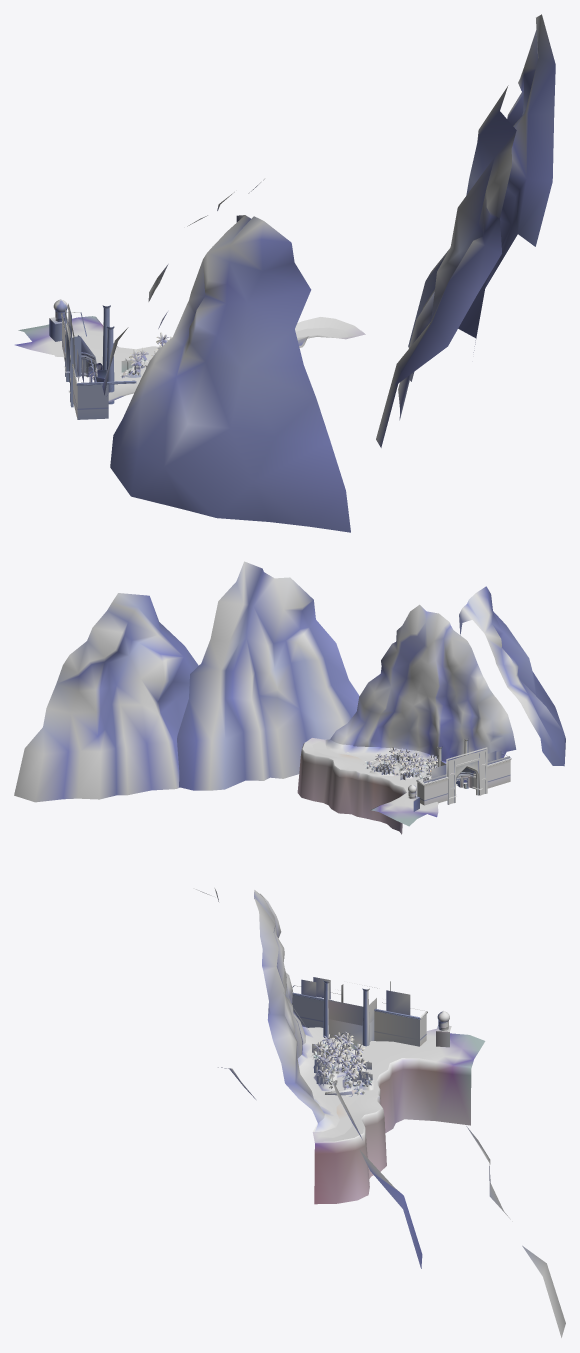
The model's file is 04Forest.gltf.
The picture shows the model from 3 angles, top to bottom: view 1: azimuth 30°, elevation 25°; view 2: azimuth 150°, elevation 25°; view 3: azimuth 270°, elevation 25°; orthographic projection. The views are drawn at different scales.
Parts seen in each view (by area): view 1: stg010_a06_Mesh_0000, stg010_a06_Mesh_0001, stg010_o31_Mesh_0012, stg010_o32_Mesh_0001, stg010_a06_Mesh_0002, stg010_o06_Mesh_0004, stg010_o14_Mesh_0000; view 2: stg010_a06_Mesh_0000, stg010_o06_Mesh_0002, stg010_a06_Mesh_0001, stg010_o31_Mesh_0012, stg010_o06_Mesh_0004, stg010_o06_Mesh_0001, stg010_p14_Mesh_0006, stg010_o32_Mesh_0001, stg010_o14_Mesh_0007, stg010_a06_Mesh_0002, stg010_p14_Mesh_0001, stg010_a06_Mesh_0004; view 3: stg010_o06_Mesh_0002, stg010_a06_Mesh_0000, stg010_o31_Mesh_0012, stg010_a06_Mesh_0001, stg010_o06_Mesh_0004, stg010_o06_Mesh_0001, stg010_p14_Mesh_0001, stg010_p14_Mesh_0006, stg010_a06_Mesh_0002, stg010_o31_Mesh_0013, stg010_o14_Mesh_0000, stg010_o32_Mesh_0001.
Boxes of the visible parts, box(x1,y1,x2,y2) form: stg010_a06_Mesh_0000: box(102, 14, 555, 532); stg010_a06_Mesh_0001: box(18, 316, 365, 353); stg010_o31_Mesh_0012: box(62, 320, 108, 419); stg010_o32_Mesh_0001: box(50, 304, 136, 407); stg010_a06_Mesh_0002: box(15, 327, 347, 361); stg010_o06_Mesh_0004: box(54, 335, 333, 402); stg010_o14_Mesh_0000: box(77, 316, 114, 404); stg010_a06_Mesh_0000: box(14, 561, 565, 802); stg010_o06_Mesh_0002: box(297, 757, 402, 834); stg010_a06_Mesh_0001: box(302, 738, 426, 826); stg010_o31_Mesh_0012: box(417, 760, 510, 805); stg010_o06_Mesh_0004: box(325, 739, 467, 804); stg010_o06_Mesh_0001: box(300, 743, 406, 810); stg010_p14_Mesh_0006: box(375, 747, 437, 778); stg010_o32_Mesh_0001: box(368, 739, 511, 804); stg010_o14_Mesh_0007: box(371, 749, 511, 804); stg010_a06_Mesh_0002: box(312, 740, 438, 817); stg010_p14_Mesh_0001: box(374, 751, 501, 782); stg010_a06_Mesh_0004: box(325, 739, 446, 763); stg010_o06_Mesh_0002: box(314, 1069, 471, 1204); stg010_a06_Mesh_0000: box(196, 888, 565, 1337); stg010_o31_Mesh_0012: box(292, 995, 426, 1046); stg010_a06_Mesh_0001: box(313, 1033, 485, 1141); stg010_o06_Mesh_0004: box(298, 1027, 397, 1131); stg010_o06_Mesh_0001: box(314, 1058, 471, 1153); stg010_p14_Mesh_0001: box(301, 977, 410, 1085); stg010_p14_Mesh_0006: box(313, 1032, 366, 1084); stg010_a06_Mesh_0002: box(313, 1028, 436, 1137); stg010_o31_Mesh_0013: box(328, 1000, 376, 1044); stg010_o14_Mesh_0000: box(323, 990, 369, 1060); stg010_o32_Mesh_0001: box(292, 980, 451, 1096).
Bounding box in the file's own units: 600 × 270 × 513.
